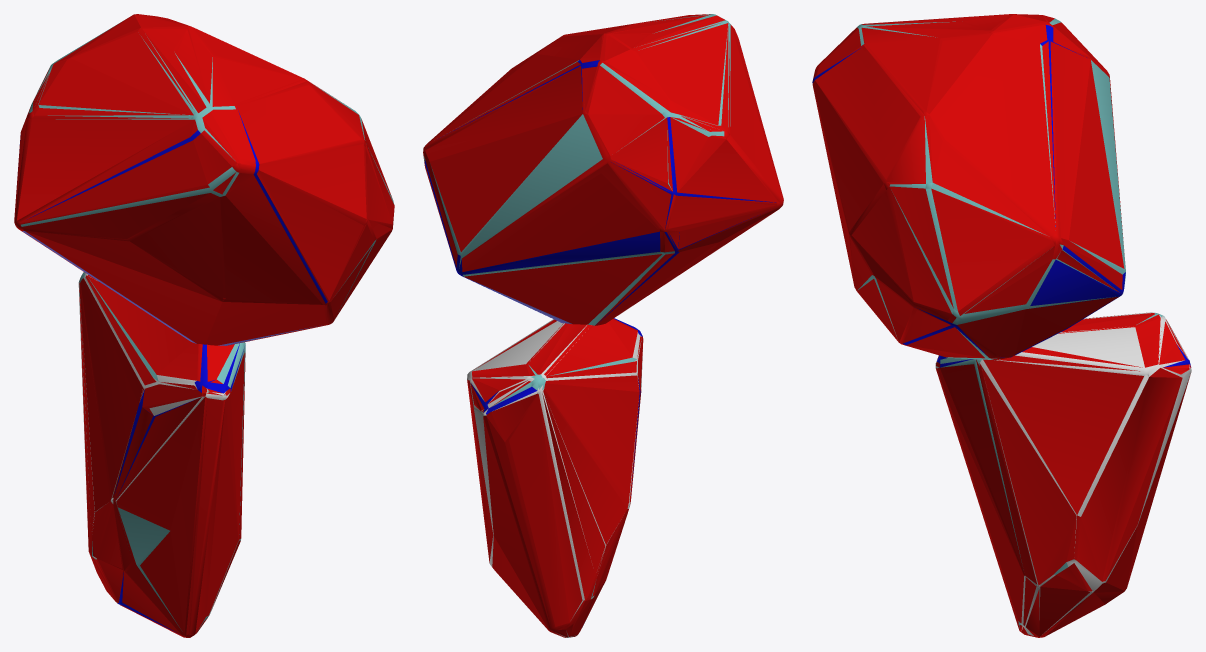
The model's file is GFP+GPA.fbx.
3 views of the same model, side by side, from view 1: azimuth 30°, elevation 25°; view 2: azimuth 150°, elevation 25°; view 3: azimuth 270°, elevation 25° (orthographic). The views are drawn at different scales.
Visible parts, largest first — view 1: GFP_Hull, GPA_Hull; view 2: GFP_Hull, GPA_Hull; view 3: GFP_Hull, GPA_Hull.
Boxes of the visible parts, <box> form: GFP_Hull: <box>14,14,394,345</box>; GPA_Hull: <box>78,273,245,637</box>; GFP_Hull: <box>423,14,783,325</box>; GPA_Hull: <box>467,318,643,637</box>; GFP_Hull: <box>812,14,1125,360</box>; GPA_Hull: <box>935,312,1191,637</box>.
Size of the model in its own units: 5950 by 9698 by 5600.
